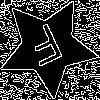F: (23, 21, 70, 76)
